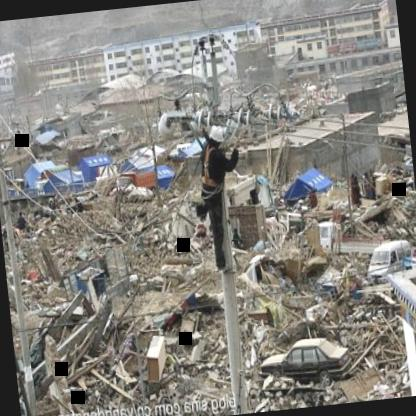helmet: (204, 122, 226, 148)
